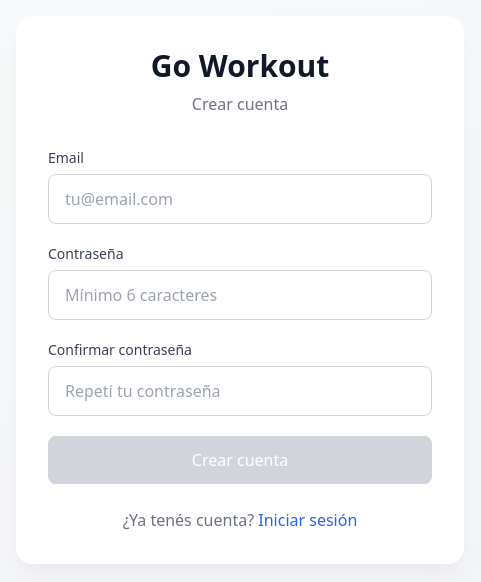
Test: RegistroPage › Validación de Email › habilita el botón con email válido y passwords correctos
Type "test@example.com" into the field labelled "Email" at [240, 199], box [48,174,432,224]
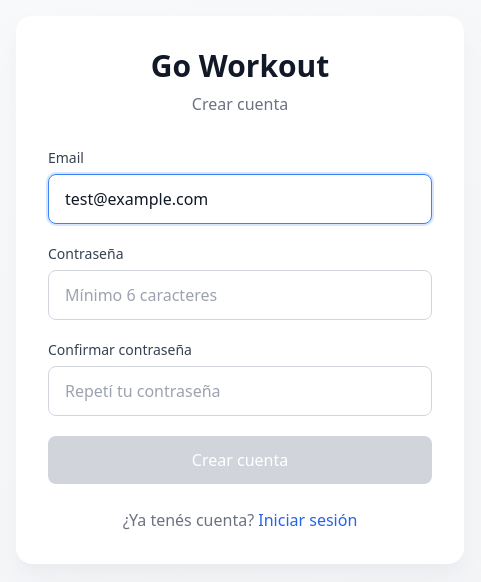
Type "password123" into the password field labelled "Contraseña" at [240, 295], box [48,270,432,320]
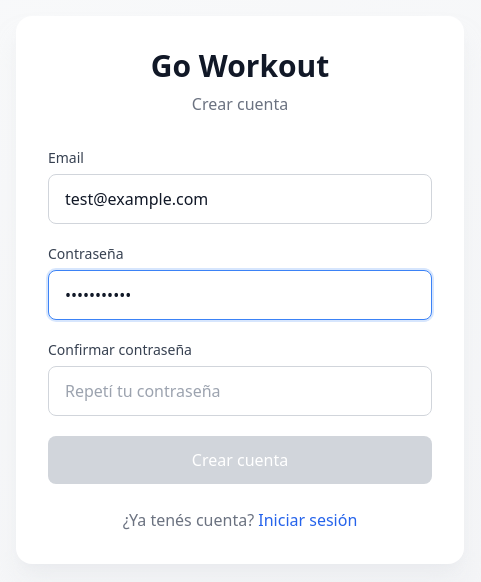
Type "password123" into the password field labelled "Confirmar contraseña" at [240, 391], box [48,366,432,416]
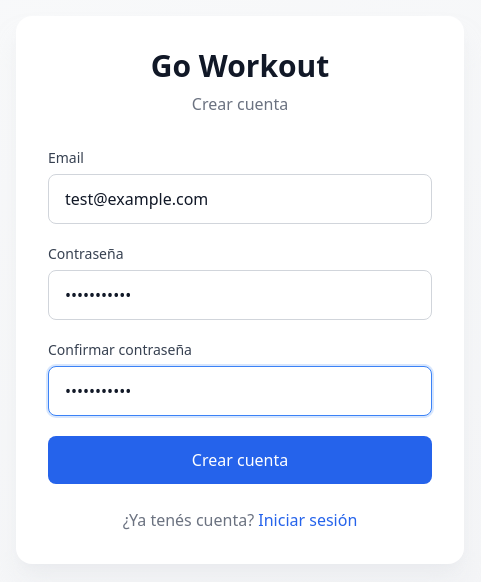
Now the button "Crear cuenta" is enabled, box [48,436,432,484]
